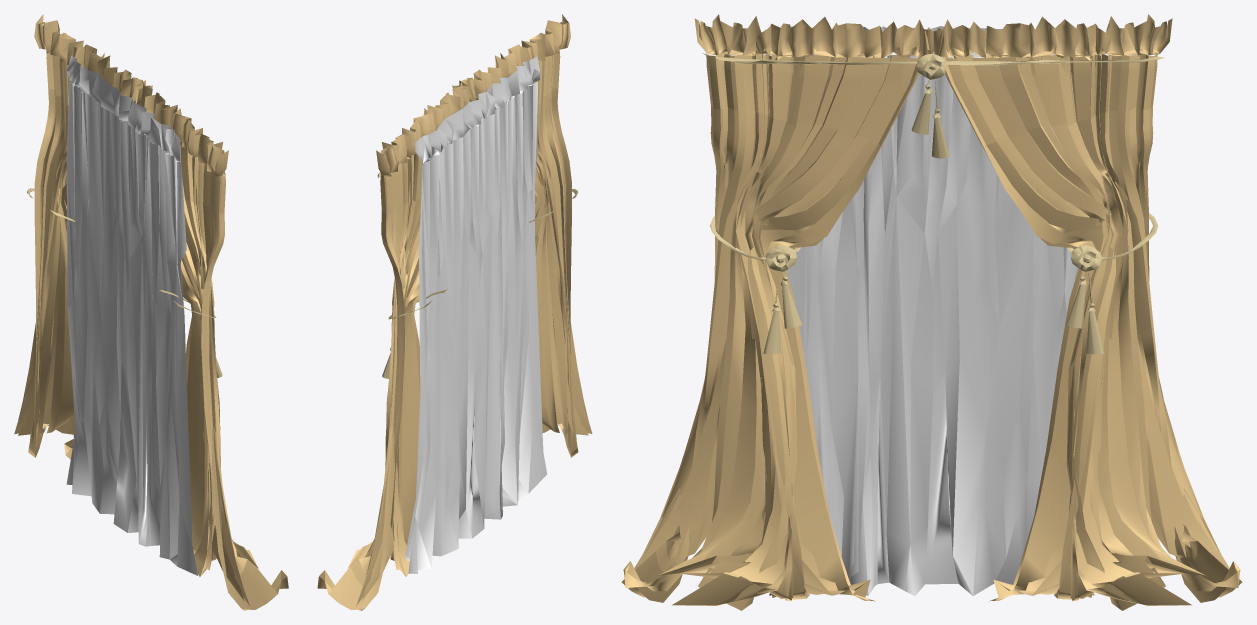
File: chuanglian.FBX
3 renders of one model, left to right at view 1: azimuth 30°, elevation 25°; view 2: azimuth 150°, elevation 25°; view 3: azimuth 270°, elevation 25°, orthographic. The views are drawn at different scales.
Parts seen in each view (by area): view 1: shtor209, Line102, Line100; view 2: shtor209, Line100, Line102; view 3: shtor209, Line102, Line100, Line2029223123.
Part boxes in pixels (x1,y1,x2,y2): shtor209: [66, 56, 197, 575]; Line102: [135, 80, 288, 610]; Line100: [14, 14, 152, 459]; shtor209: [405, 56, 546, 573]; Line100: [317, 80, 469, 610]; Line102: [452, 14, 592, 457]; shtor209: [786, 26, 1078, 595]; Line102: [621, 14, 942, 610]; Line100: [924, 14, 1242, 610]; Line2029223123: [702, 53, 1164, 65].
Bounding box in the file's own units: 47.56 × 310 × 300.
